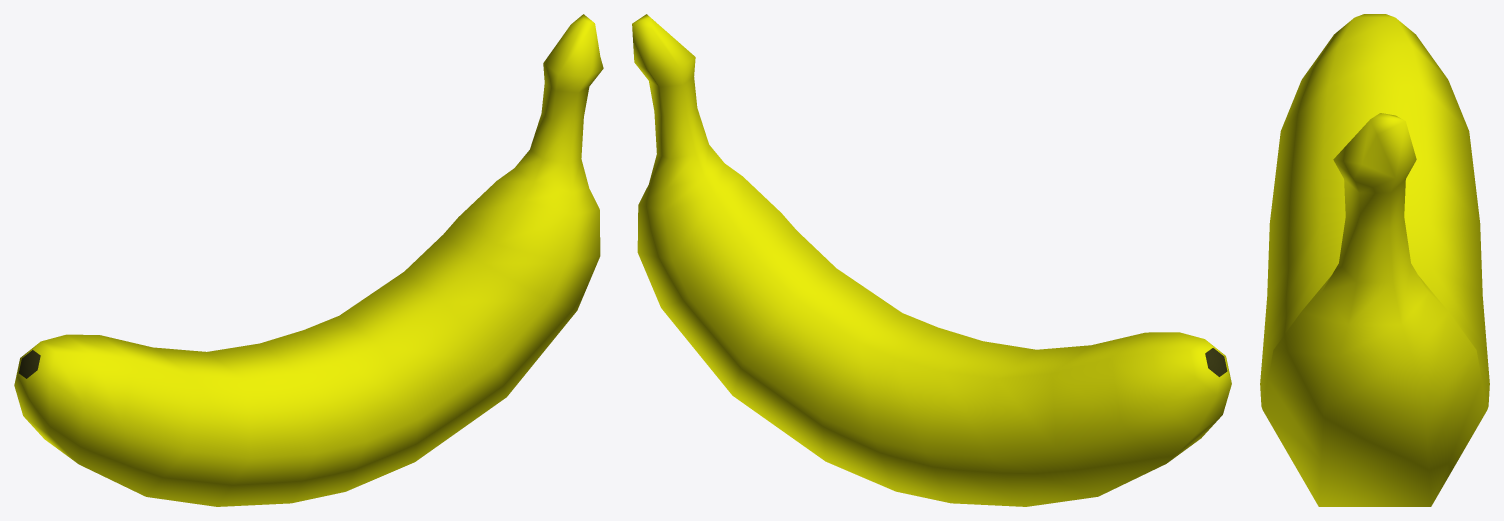
The model's file is banana.fbx.
3 renders of one model, left to right at view 1: azimuth 30°, elevation 25°; view 2: azimuth 150°, elevation 25°; view 3: azimuth 270°, elevation 25°, orthographic. The views are drawn at different scales.
Parts seen in each view (by area): view 1: Circle; view 2: Circle; view 3: Circle.
Boxes of the visible parts, box(x1,y1,x2,y2) form: Circle: box(14, 14, 603, 506); Circle: box(632, 14, 1231, 506); Circle: box(1260, 14, 1489, 506).
Size of the model in its own units: 759 by 492 by 191.
